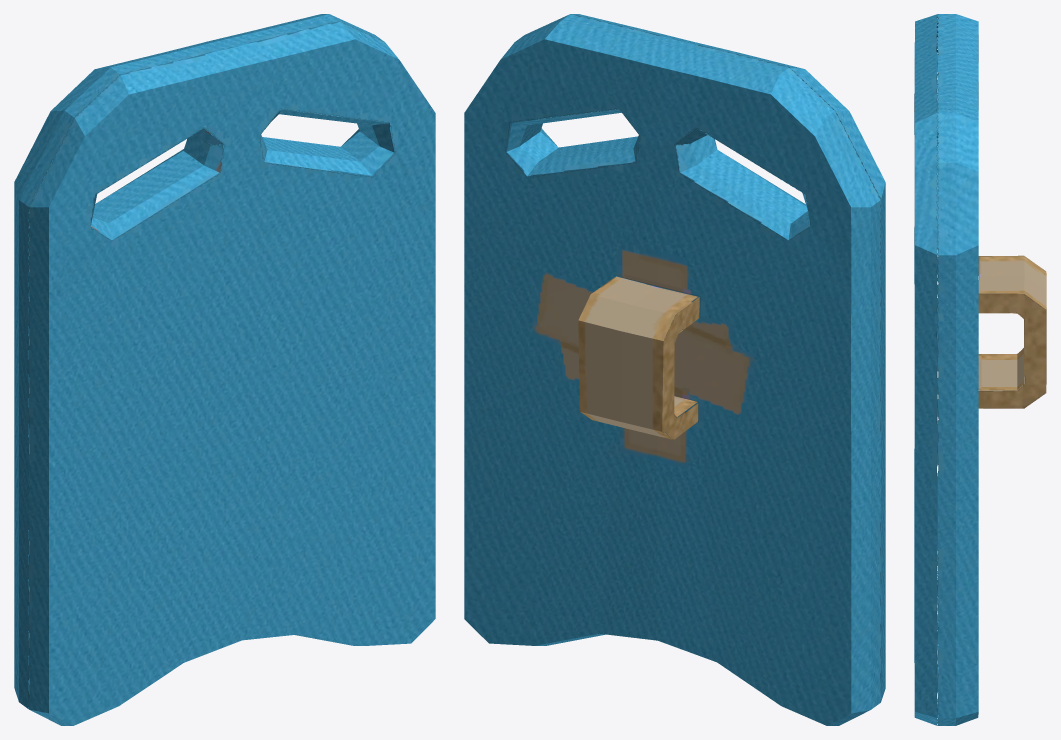
Rendered from SwimmingBoardShield_Blue.fbx.
The picture shows the model from 3 angles, left to right: view 1: azimuth 30°, elevation 25°; view 2: azimuth 150°, elevation 25°; view 3: azimuth 270°, elevation 25°; orthographic projection. The views are drawn at different scales.
Visible parts, largest first — view 1: swimming board shield; view 2: swimming board shield; view 3: swimming board shield.
Part boxes in pixels (x1,y1,x2,y2): swimming board shield: (14,14,435,725); swimming board shield: (464,14,885,725); swimming board shield: (914,14,1046,725).
Bounding box in the file's own units: 51.62 × 78.1 × 16.
